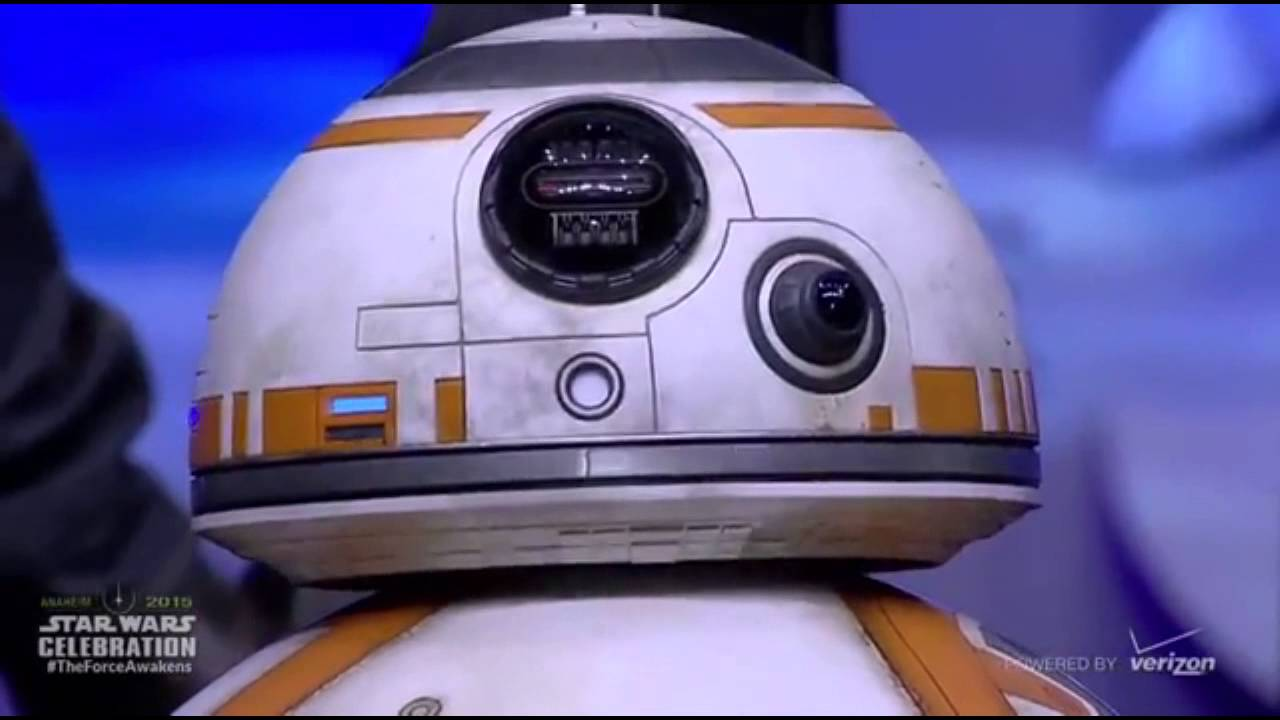bb8: (171, 14, 1119, 713)
